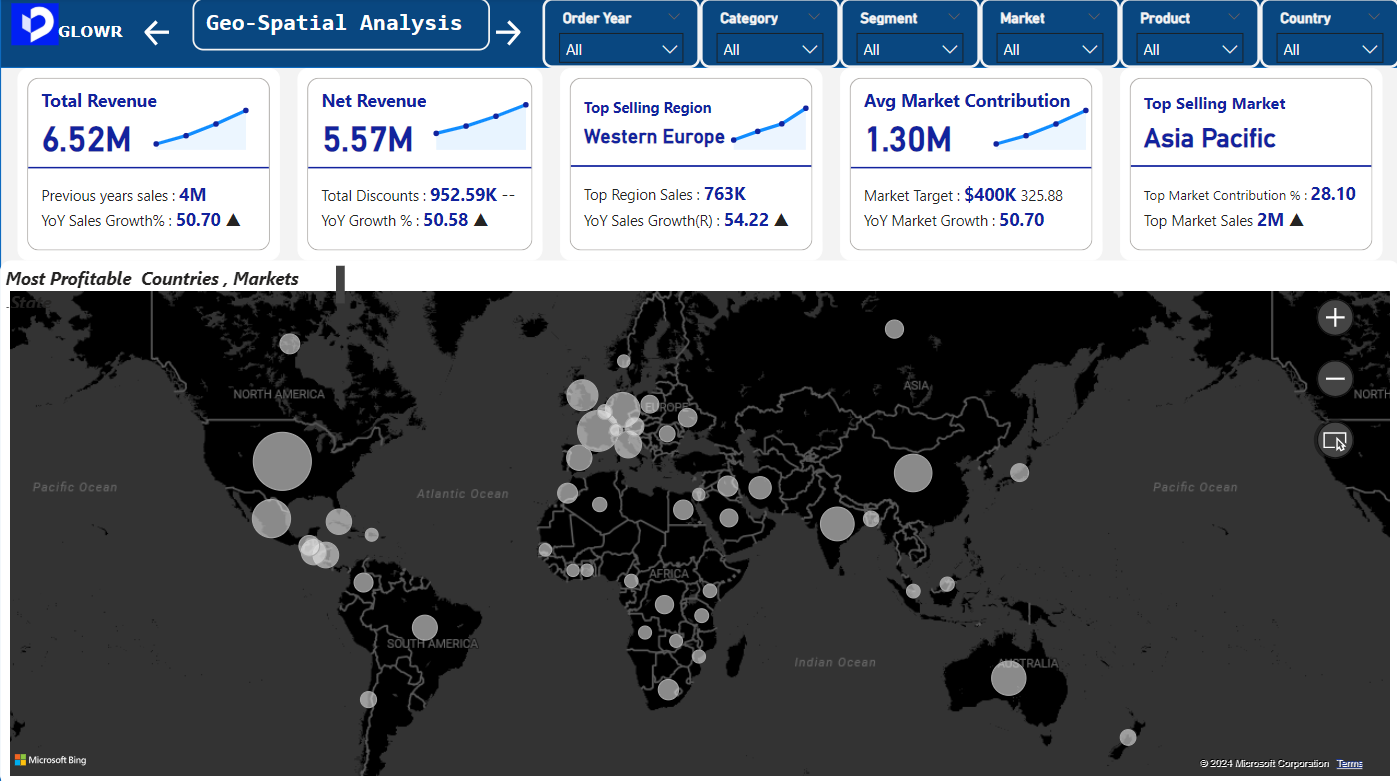

What the dashboard file says about the page in this screenshot:
{"tool":"powerbi","page":{"name":"GeoSpatial Sales Analysis ","canvas":[1280,720],"ordinal":3},"visuals":[{"type":"shape","box":[0,0,1280,720],"z":0},{"type":"shape","box":[0,0,1280,64],"z":1000},{"type":"image","box":[0,0,64,48],"z":2000},{"type":"textbox","box":[48,16,80,32],"z":3000},{"type":"slicer","fields":{"Values":["Category.Category"]},"box":[640,0,128,64],"z":4000},{"type":"slicer","fields":{"Values":["Market.Market"]},"box":[896,0,128,64],"z":5000},{"type":"slicer","fields":{"Values":["Segment.Segment"]},"box":[768,0,128,64],"z":6000},{"type":"slicer","fields":{"Values":["Products.Product"]},"box":[1024,0,128,64],"z":7000},{"type":"slicer","fields":{"Values":["Country.Country"]},"box":[1152,0,128,64],"z":8000},{"type":"slicer","fields":{"Values":["Date.Order Year"]},"box":[496,0,144,64],"z":9000},{"type":"textbox","box":[176,0,272,48],"z":10000},{"type":"cardVisual","fields":{"Data":["Fact Table.total sales"]},"box":[16,64,240,176],"z":11000},{"type":"lineChart","fields":{"Category":["Date.Order Year"],"Y":["Sum(Fact Table.Sales)"]},"box":[128,80,112,64],"z":12000},{"type":"cardVisual","fields":{"Data":["Category.Top Selling Region sales   :"]},"box":[512,64,240,176],"z":13000},{"type":"lineChart","fields":{"Category":["Date.Order Year"],"Y":["Category.Top Region  Sales :"]},"box":[656,80,96,64],"z":14000},{"type":"cardVisual","fields":{"Data":["Category.Top Selling Market"]},"box":[1024,64,240,176],"z":15000},{"type":"cardVisual","fields":{"Data":["Category.net sales"]},"box":[272,64,224,176],"z":16000},{"type":"lineChart","fields":{"Category":["Date.Order Year"],"Y":["Category.net sales"]},"box":[384,80,112,64],"z":17000},{"type":"cardVisual","fields":{"Data":["Category.Avg Market Contribution"]},"box":[768,64,240,176],"z":18000},{"type":"lineChart","fields":{"Category":["Date.Order Year"],"Y":["Category.Avg Market Contribution"]},"box":[896,80,112,64],"z":19000},{"type":"map","title":" ","fields":{"Category":["Country.Country","Market.Market","State.State"],"Size":["Fact Table.total sales"]},"box":[0,240,1280,480],"z":20000},{"type":"textbox","box":[16,240,336,48],"z":21000},{"type":"actionButton","box":[448,16,32,32],"z":22000},{"type":"actionButton","box":[128,16,48,32],"z":23000}]}

Visuals, with their boxes in screenshot pixels (x1, y1, x2, y2), scaled from the page's 1280x720 canvas onto the 1397x781 screenshot:
shape: (0,0,1396,780)
shape: (0,0,1396,69)
image: (0,0,70,52)
textbox: (52,17,140,52)
slicer - Category.Category: (698,0,838,69)
slicer - Market.Market: (978,0,1118,69)
slicer - Segment.Segment: (838,0,978,69)
slicer - Products.Product: (1118,0,1257,69)
slicer - Country.Country: (1257,0,1396,69)
slicer - Date.Order Year: (541,0,698,69)
textbox: (192,0,489,52)
cardVisual - Fact Table.total sales: (17,69,279,260)
lineChart - Date.Order Year x Sum(Fact Table.Sales): (140,87,262,156)
cardVisual - Category.Top Selling Region sales   :: (559,69,821,260)
lineChart - Date.Order Year x Category.Top Region  Sales :: (716,87,821,156)
cardVisual - Category.Top Selling Market: (1118,69,1380,260)
cardVisual - Category.net sales: (297,69,541,260)
lineChart - Date.Order Year x Category.net sales: (419,87,541,156)
cardVisual - Category.Avg Market Contribution: (838,69,1100,260)
lineChart - Date.Order Year x Category.Avg Market Contribution: (978,87,1100,156)
" " map: (0,260,1396,780)
textbox: (17,260,384,312)
actionButton: (489,17,524,52)
actionButton: (140,17,192,52)
